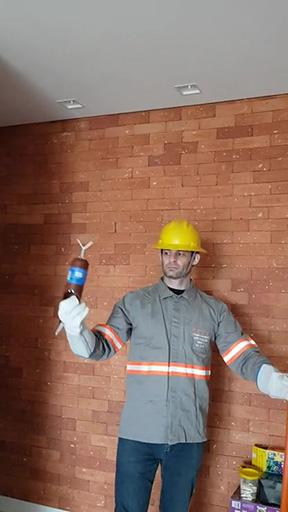Detector_Tensao_Contato: (63, 237, 95, 306)
